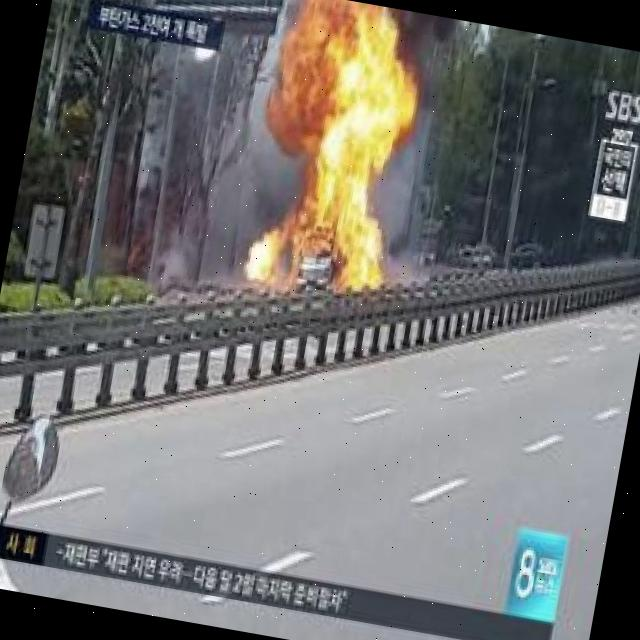fire: (242, 202, 390, 304), (278, 52, 424, 155), (296, 148, 378, 220)
